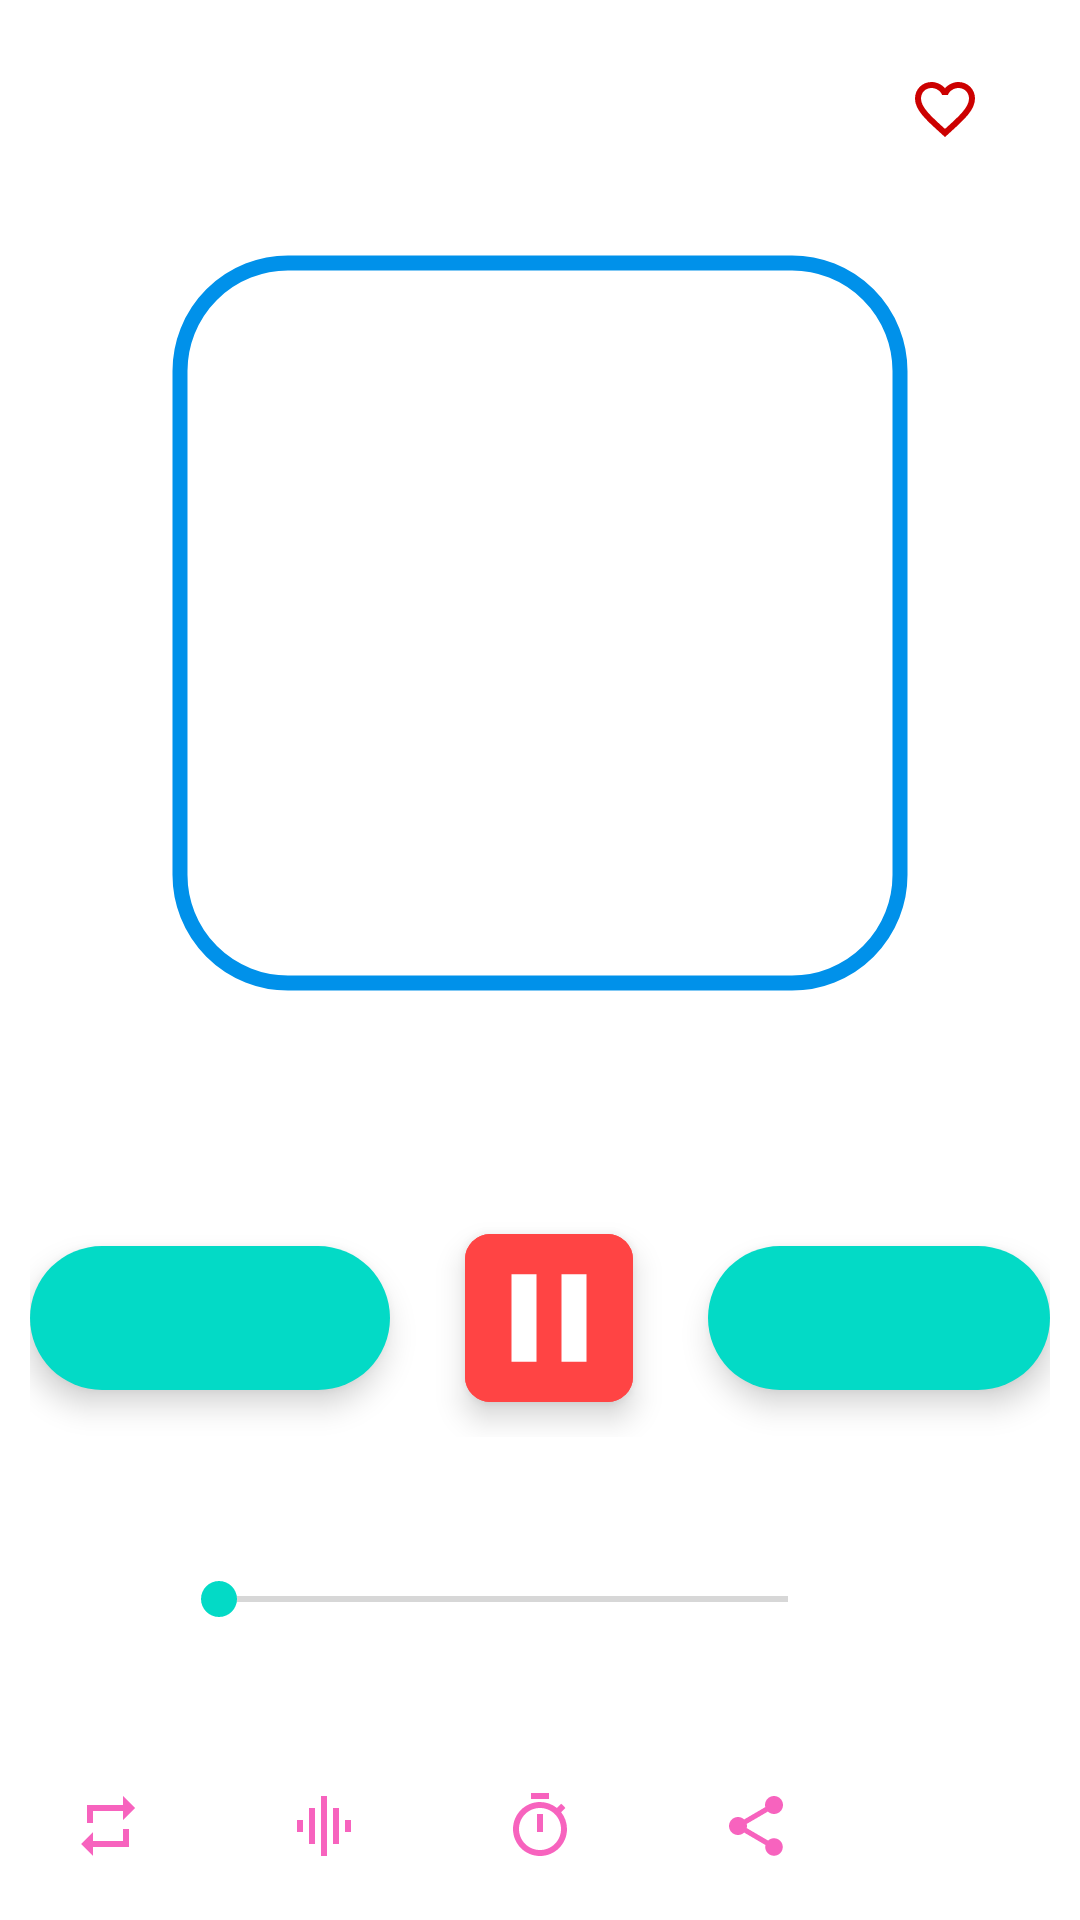

Icons on this 1080*1920 Android screen, each with the point to tap as (x=x, y=y):
Equalizer: (x=324, y=1826)
Favourites: (x=945, y=109)
pause: (x=549, y=1318)
Repeat: (x=108, y=1826)
share: (x=756, y=1826)
Timer: (x=540, y=1824)
